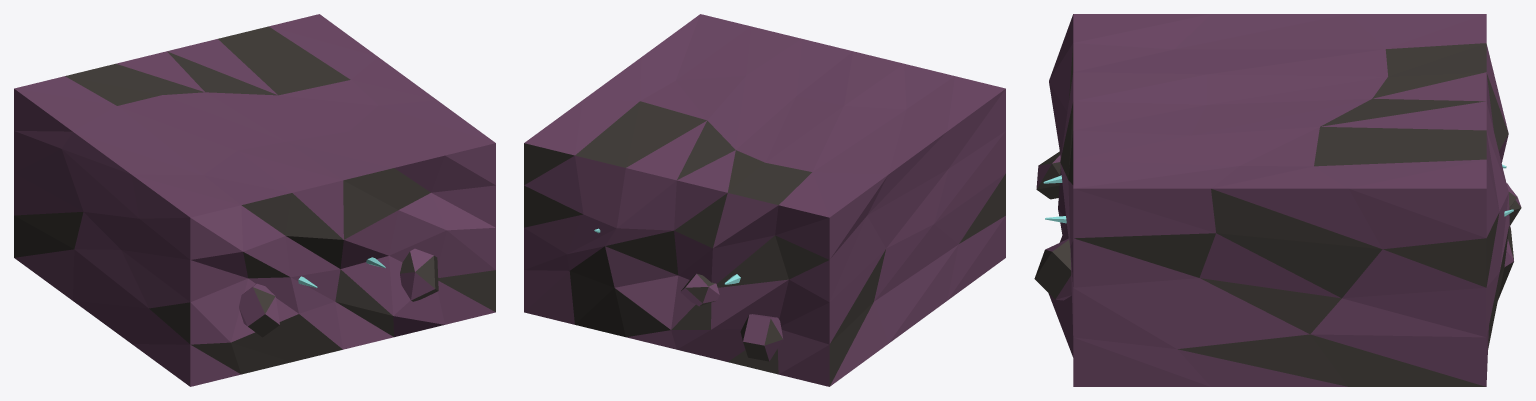
Rendered from Kit_Rock_CrystalHollows.fbx.
3 views of the same model, side by side, from view 1: azimuth 30°, elevation 25°; view 2: azimuth 150°, elevation 25°; view 3: azimuth 270°, elevation 25° (orthographic). The views are drawn at different scales.
Parts seen in each view (by area): view 1: Rock, Decor; view 2: Rock, Decor; view 3: Rock, Decor.
Part boxes in pixels (x1,y1,x2,y2): Rock: (14, 14, 495, 386); Decor: (239, 248, 438, 337); Rock: (524, 14, 1005, 386); Decor: (680, 273, 783, 361); Rock: (1048, 14, 1513, 386); Decor: (1034, 151, 1521, 300).
Size of the model in its own units: 34 by 18 by 40.07.
